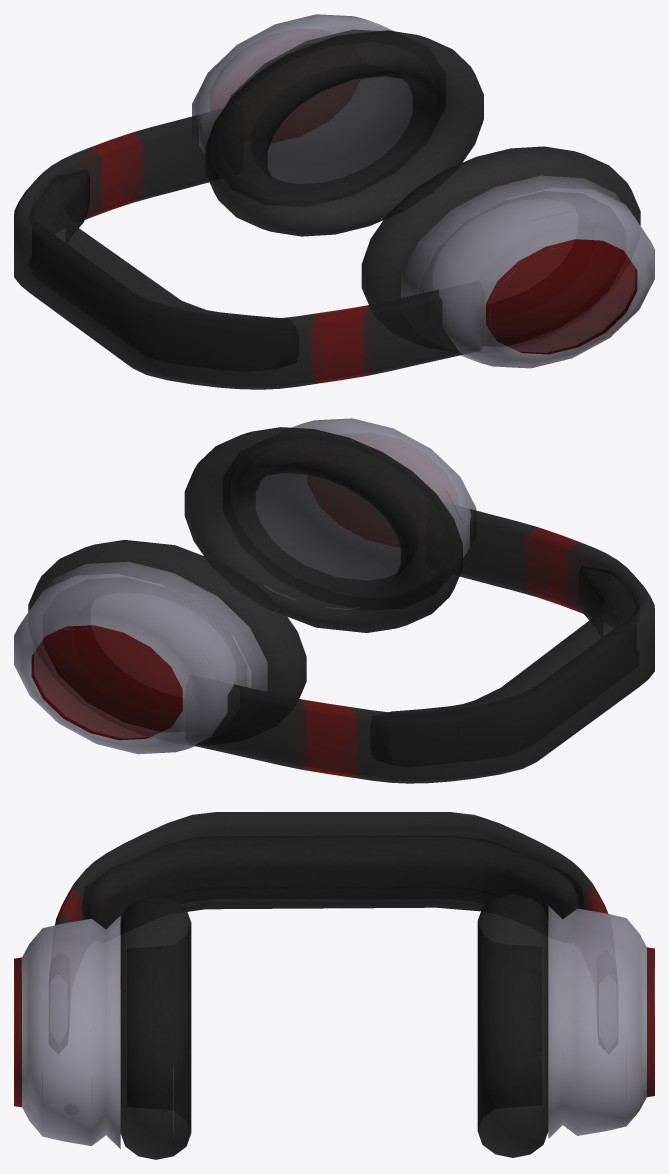
Rendered from Headphones_used.glb.
3 renders of one model, top to bottom at view 1: azimuth 30°, elevation 25°; view 2: azimuth 150°, elevation 25°; view 3: azimuth 270°, elevation 25°, orthographic. The views are drawn at different scales.
Parts seen in each view (by area): view 1: Headphones; view 2: Headphones; view 3: Headphones.
Part boxes in pixels (left/top/right/bottom): Headphones: left=14, top=14, right=654, bottom=389; Headphones: left=14, top=418, right=654, bottom=783; Headphones: left=14, top=812, right=654, bottom=1159.
Bounding box in the file's own units: 0.16 × 0.06 × 0.16.
Materials: 1 (1 with a texture image).
